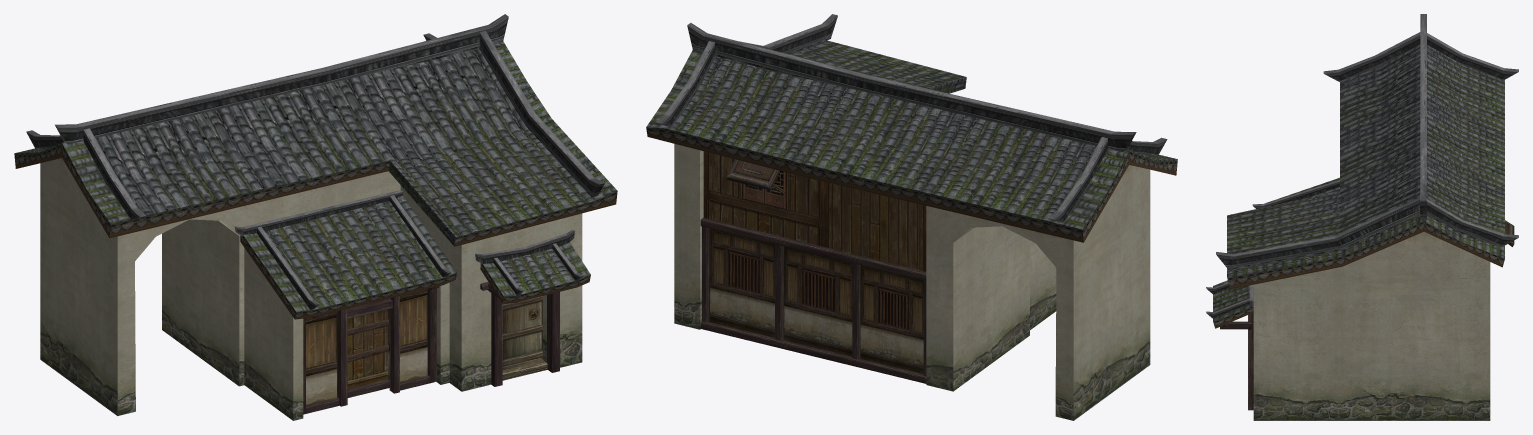
Rendered from minju_dw_21.fbx.
The picture shows the model from 3 angles, left to right: view 1: azimuth 30°, elevation 25°; view 2: azimuth 150°, elevation 25°; view 3: azimuth 270°, elevation 25°; orthographic projection. The views are drawn at different scales.
Parts seen in each view (by area): view 1: minju_dw_21; view 2: minju_dw_21; view 3: minju_dw_21.
Boxes of the visible parts, <box> form: minju_dw_21: <box>14,14,617,420</box>; minju_dw_21: <box>646,14,1177,420</box>; minju_dw_21: <box>1206,14,1518,420</box>.
Size of what is drawn, in the model's own units: 1377 by 786 by 967.
